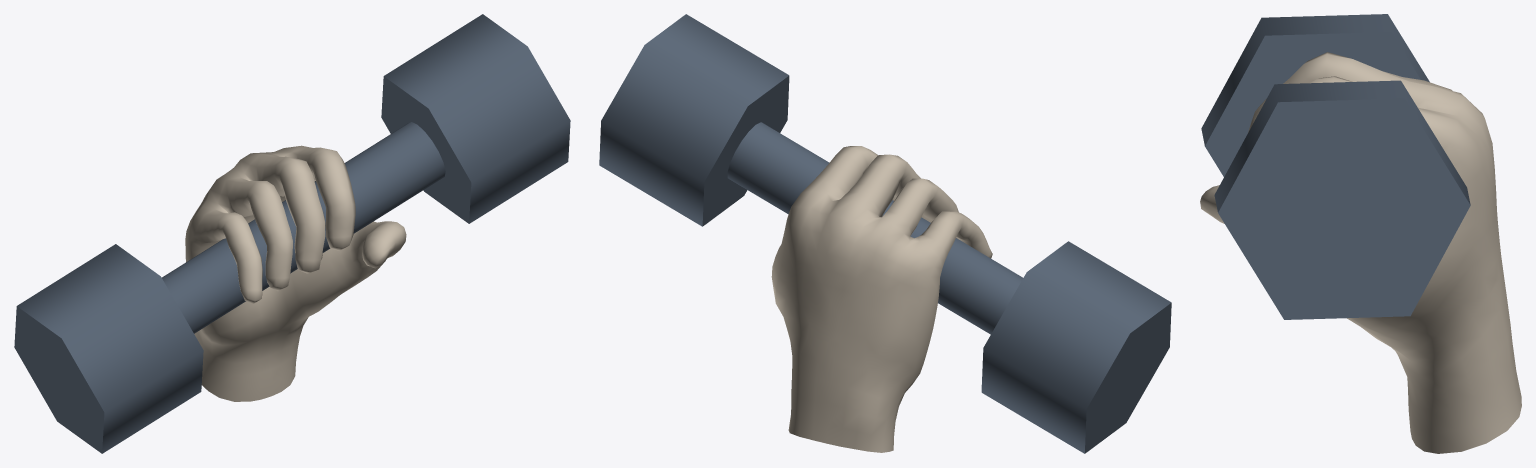
Rendered from right-hand-with-dumbbell.glb.
3 views of the same model, side by side, from view 1: azimuth 30°, elevation 25°; view 2: azimuth 150°, elevation 25°; view 3: azimuth 270°, elevation 25° (orthographic). The views are drawn at different scales.
Parts seen in each view (by area): view 1: right_hand_fixed, plate_plus, plate_minus, shaft; view 2: right_hand_fixed, plate_plus, plate_minus, shaft; view 3: plate_minus, right_hand_fixed, plate_plus.
Boxes of the visible parts, x1,y1,x2,y2 form: right_hand_fixed: (185, 145, 406, 401); plate_plus: (14, 244, 203, 453); plate_minus: (381, 14, 570, 223); shaft: (162, 122, 445, 333); right_hand_fixed: (771, 146, 992, 452); plate_plus: (981, 241, 1171, 453); plate_minus: (599, 14, 789, 226); shaft: (727, 122, 1022, 334); plate_minus: (1214, 80, 1470, 319); right_hand_fixed: (1200, 52, 1521, 453); plate_plus: (1201, 14, 1429, 176).
Bounding box in the file's own units: 0.2913 × 0.1798 × 0.1069.
